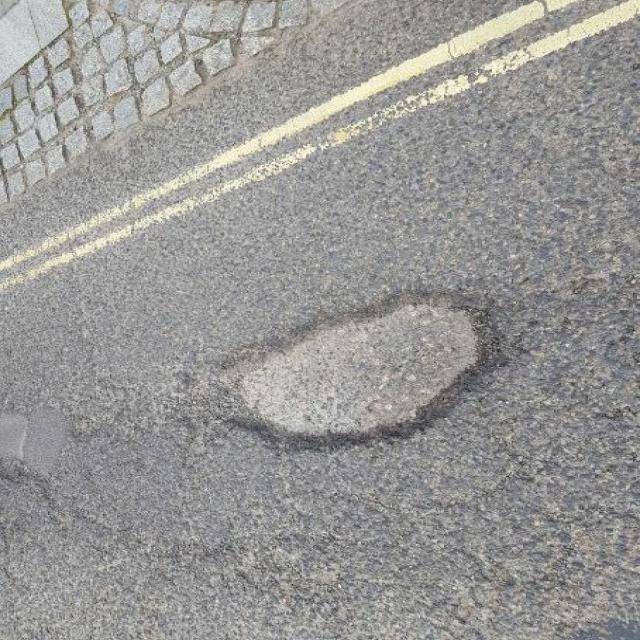Pothole: (186, 279, 518, 459)
